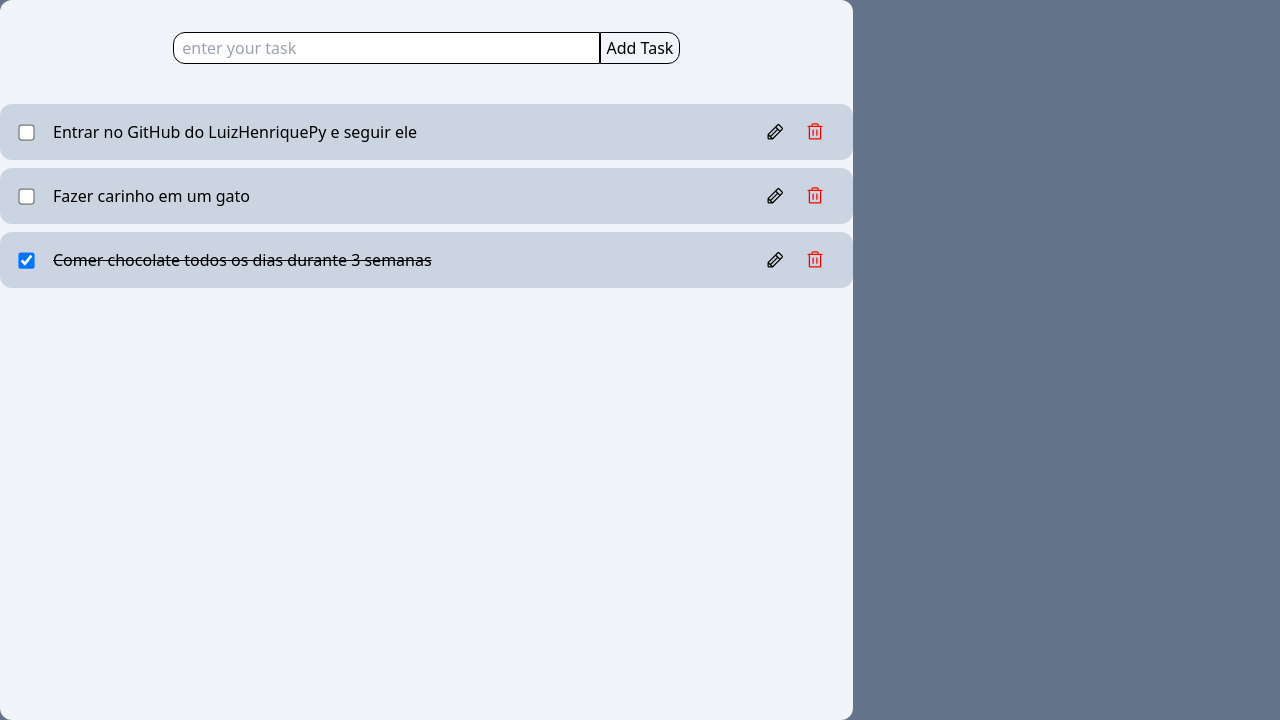
Test: Page ToDoList › Testa se é possível deletar uma task
Expected: the number of elements with test id "tasks" is 3, [0,104,853,160]; [0,168,853,224]; [0,232,853,288]
Click the 1st button with test id "button-delete-task": (815, 132) [805,122,825,142]
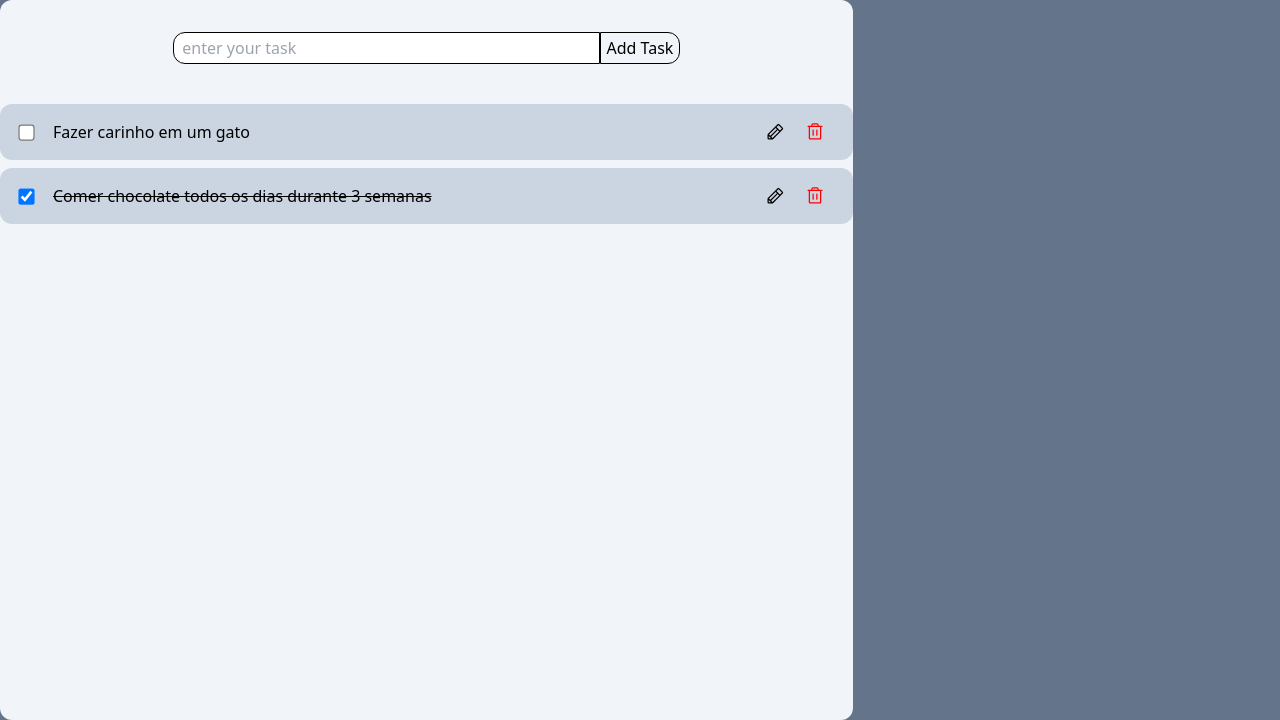
Result: the number of elements with test id "tasks" is 2 at [0,104,853,160]; [0,168,853,224]
